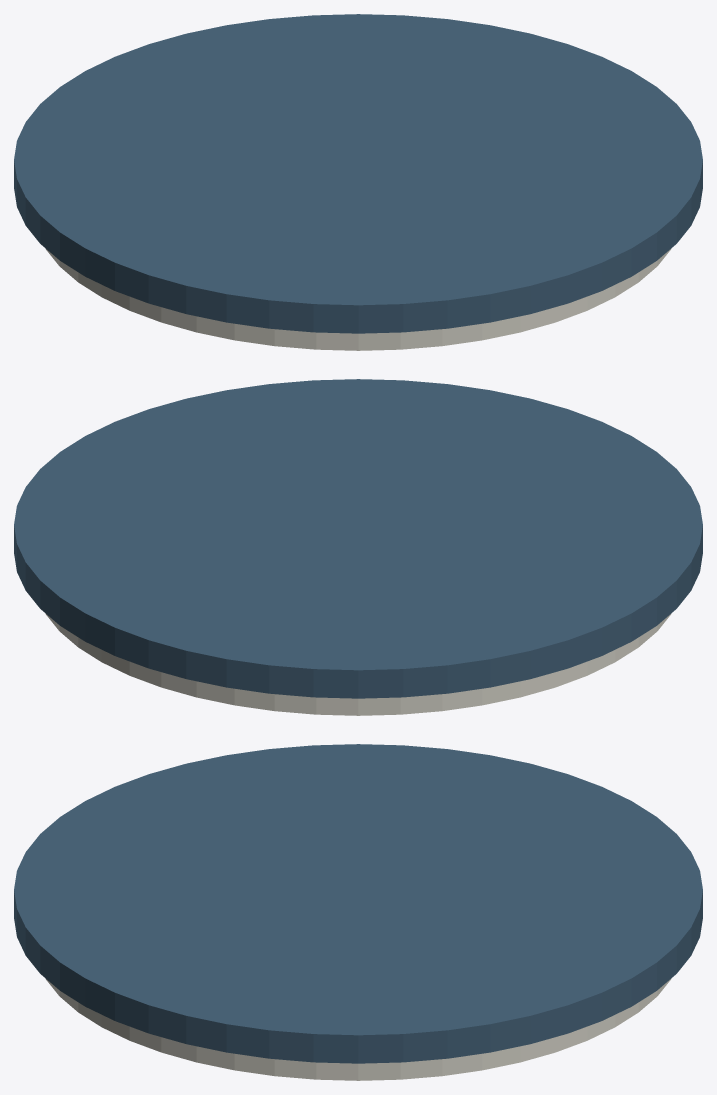
Rendered from 14_L78_CeramicCapGasShowerhead.fbx.
3 views of the same model, one above another, from view 1: azimuth 30°, elevation 25°; view 2: azimuth 150°, elevation 25°; view 3: azimuth 270°, elevation 25° (orthographic).
Visible parts, largest first — view 1: CeramicCapGasShowerhead; view 2: CeramicCapGasShowerhead; view 3: CeramicCapGasShowerhead.
Boxes of the visible parts, x1=… form: CeramicCapGasShowerhead: x1=14, y1=14, x2=702, y2=350; CeramicCapGasShowerhead: x1=14, y1=379, x2=702, y2=715; CeramicCapGasShowerhead: x1=14, y1=744, x2=702, y2=1080.
Bounding box in the file's own units: 264 × 26.25 × 264.
